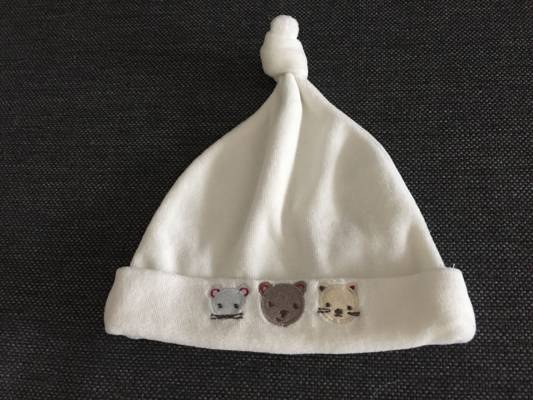Hat: (99, 24, 493, 363)
